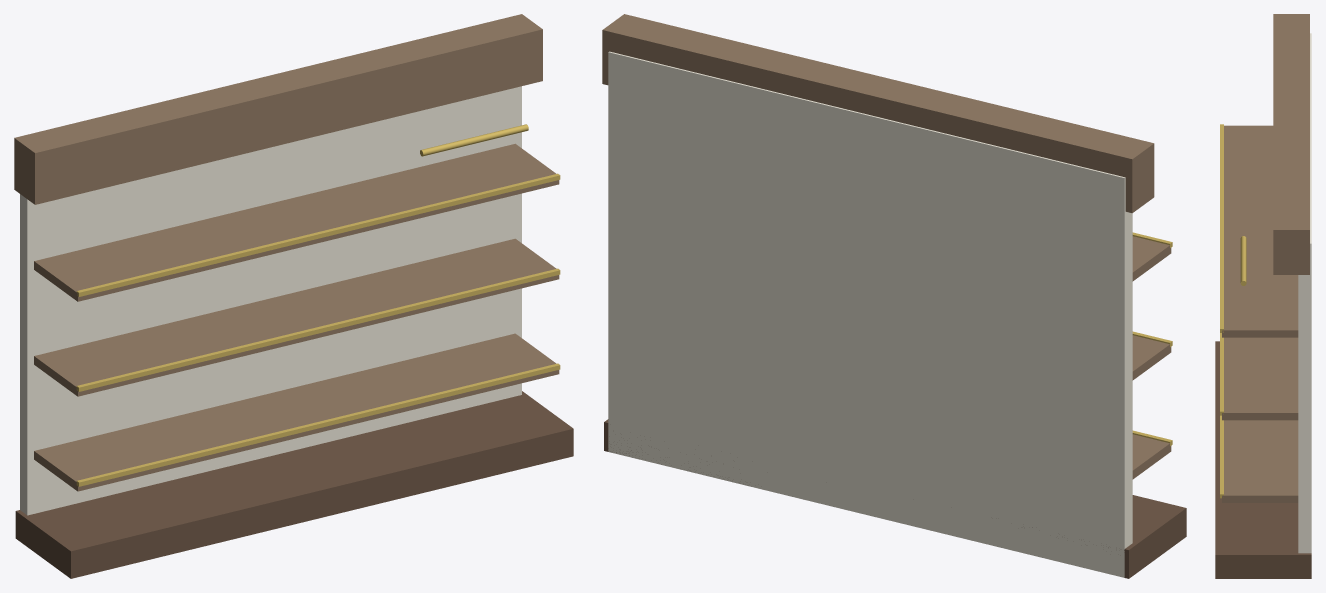
The model's file is apparel_wall.glb.
3 views of the same model, side by side, from view 1: azimuth 30°, elevation 25°; view 2: azimuth 150°, elevation 25°; view 3: azimuth 270°, elevation 25° (orthographic). The views are drawn at different scales.
Visible parts, largest first — view 1: apparel_wall; view 2: apparel_wall; view 3: apparel_wall.
Part boxes in pixels (x1,y1,x2,y2): apparel_wall: (14,14,573,578); apparel_wall: (602,14,1186,578); apparel_wall: (1215,14,1311,578).
Bounding box in the file's own units: 3.08 × 2.33 × 0.58.
